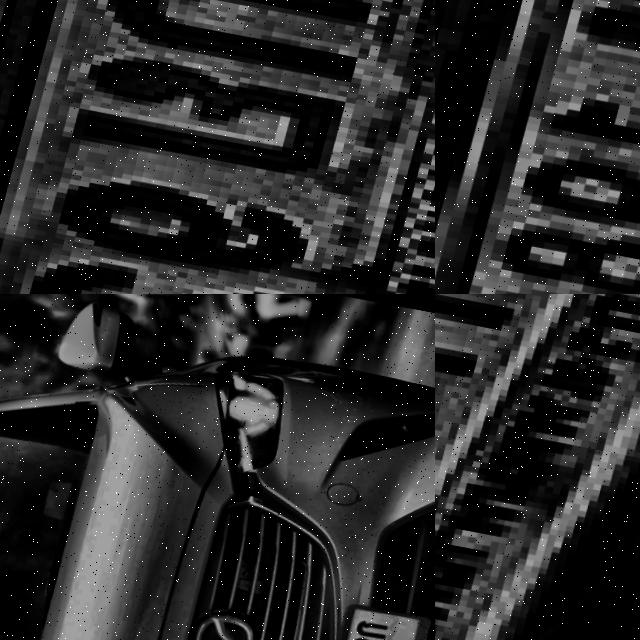license-plate: (0, 0, 435, 294), (435, 294, 640, 640), (435, 0, 640, 294), (322, 604, 435, 640)
